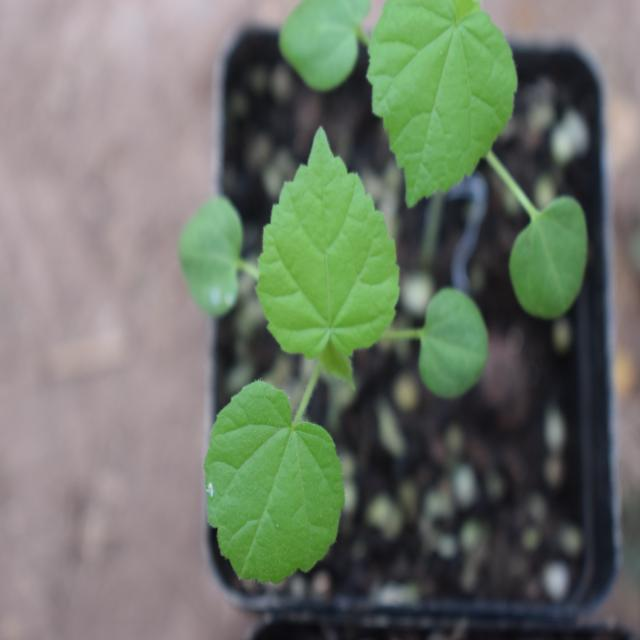abutilon theophrasti: (177, 124, 500, 589)
